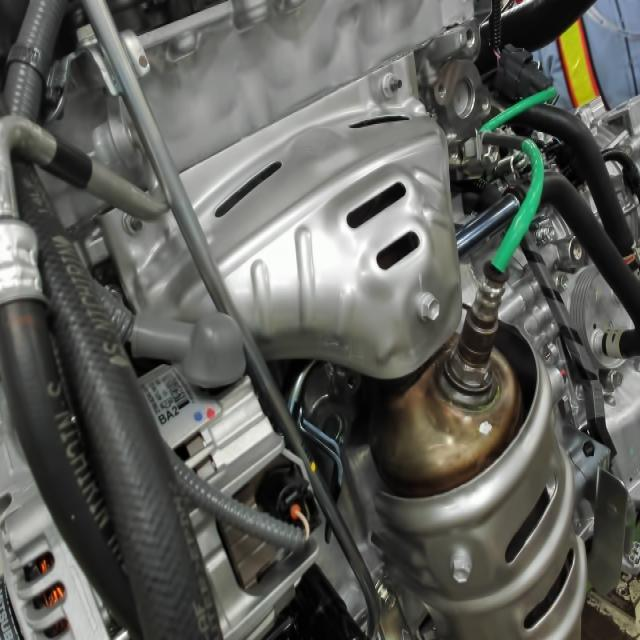Alternator-BA2: (158, 388, 185, 428)
Hose Discharge-HT: (38, 125, 97, 197)
